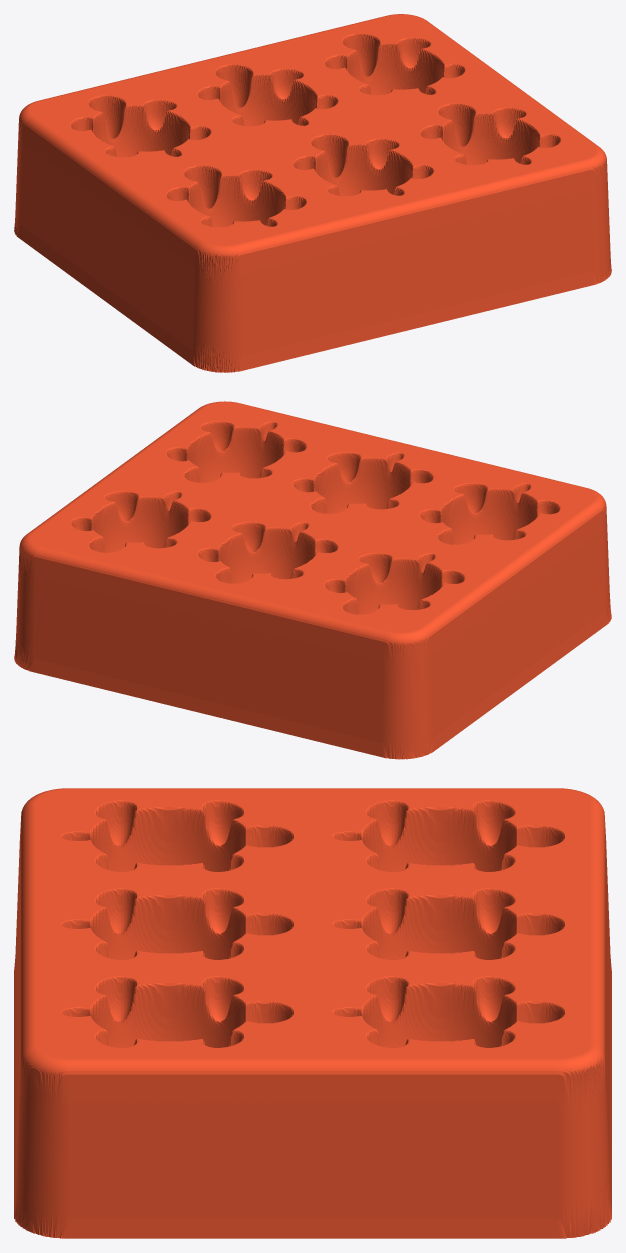
The model's file is mold.glb.
3 views of the same model, one above another, from view 1: azimuth 30°, elevation 25°; view 2: azimuth 150°, elevation 25°; view 3: azimuth 270°, elevation 25° (orthographic). The views are drawn at different scales.
Visible parts, largest first — view 1: geometry_0; view 2: geometry_0; view 3: geometry_0.
Boxes of the visible parts, box(x1,y1,x2,y2) form: geometry_0: box(14, 14, 611, 372); geometry_0: box(14, 401, 611, 759); geometry_0: box(14, 788, 611, 1238).
Size of the model in its own units: 0.1132 by 0.0314 by 0.0996.
